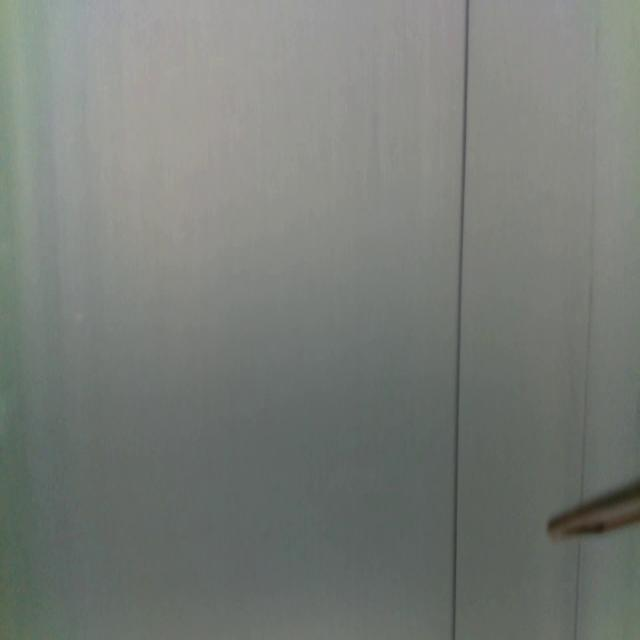crease: (451, 1, 470, 640), (580, 0, 602, 497), (572, 538, 583, 640)
